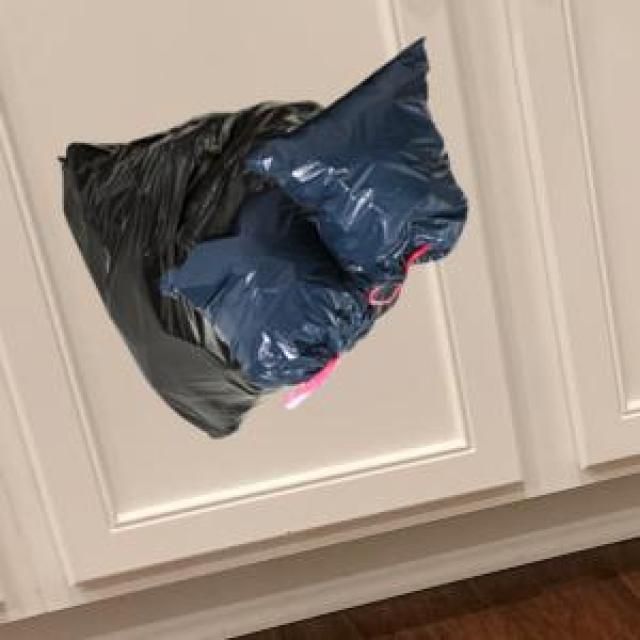miscellaneous trash: (152, 34, 463, 403), (56, 96, 323, 435)
